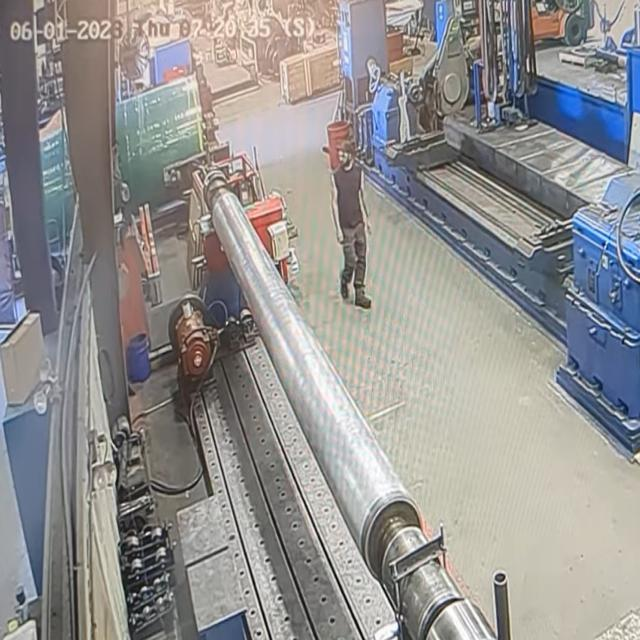standing: (332, 140, 371, 308)
